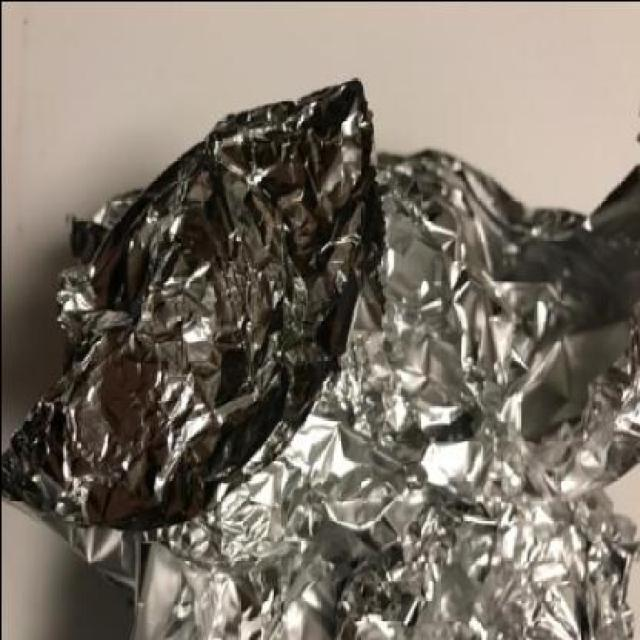METAL: (1, 74, 638, 640)
